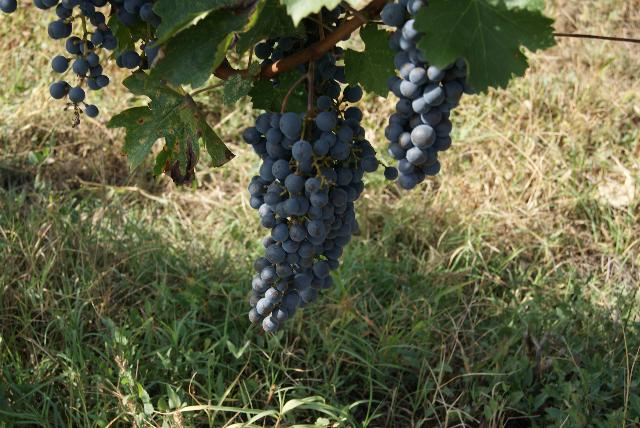grapes: (242, 80, 379, 332), (381, 0, 474, 190)
